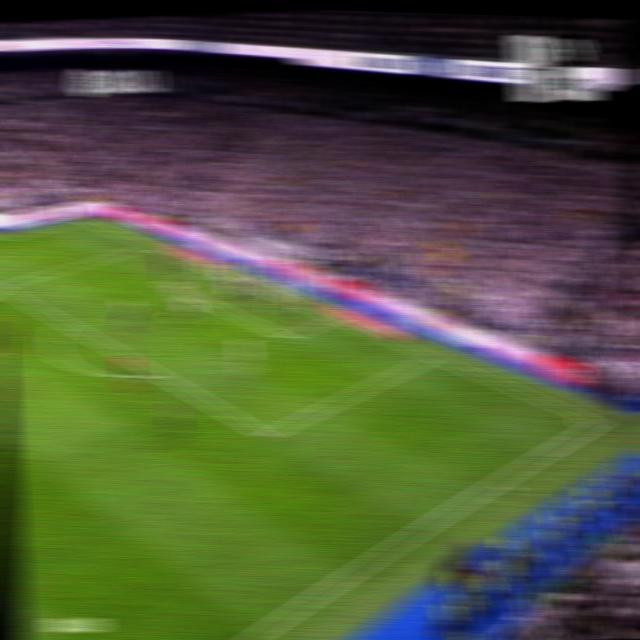bigarea_bottom_inner: (255, 421, 278, 447)
bigarea_bottom_outter: (420, 347, 442, 364)
bigarea_top_inner: (0, 277, 8, 293)
bigarea_top_outter: (140, 238, 158, 249)
bottom_arc_area_intersection: (146, 362, 168, 383)
corner: (76, 215, 95, 224)
smallarea_bottom_inner: (277, 327, 297, 347)
smallarea_bottom_outter: (324, 311, 342, 323)
smallarea_top_inner: (156, 276, 174, 288)
top_arc_area_intersection: (55, 314, 75, 330)
